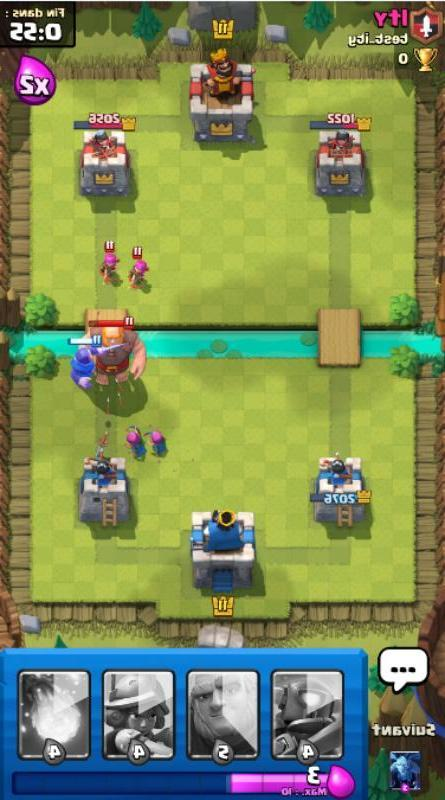enemy_archers: (125, 246, 153, 287), (96, 241, 122, 281)
enemy_giant: (71, 318, 150, 391)
player_archers: (120, 422, 148, 460), (144, 423, 170, 457)
player_knight: (65, 334, 104, 390)
